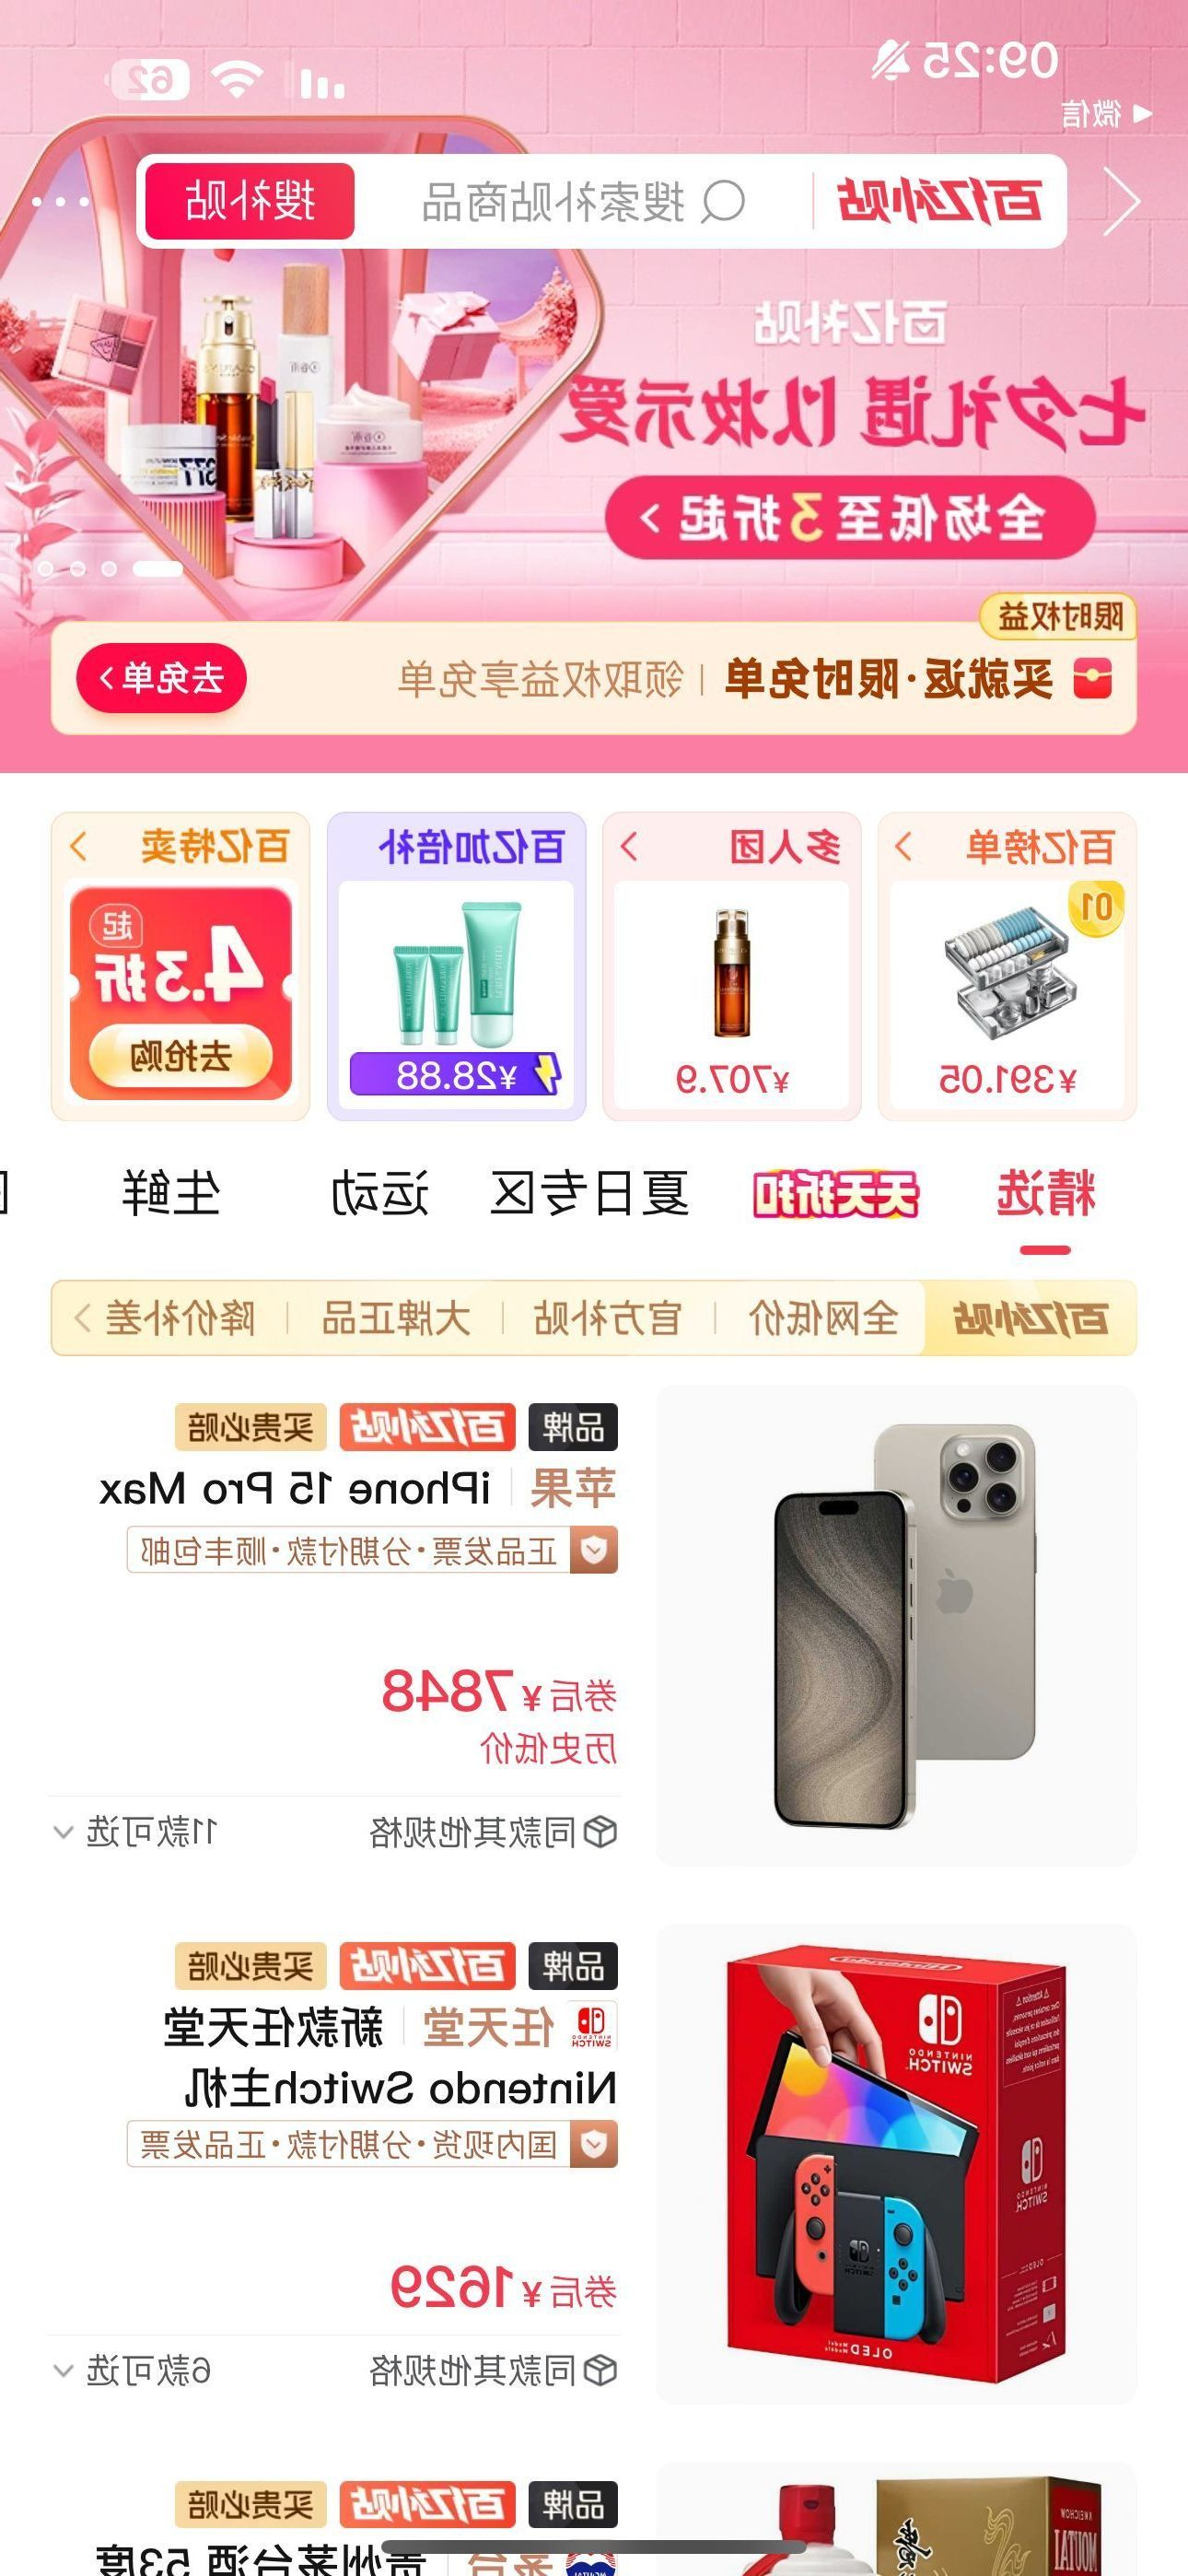banner: (33, 598, 1163, 749)
item: (18, 1255, 1185, 1875), (10, 1896, 1178, 2415)
op_bar: (13, 135, 1188, 269)
seckill: (33, 798, 1172, 1226)
